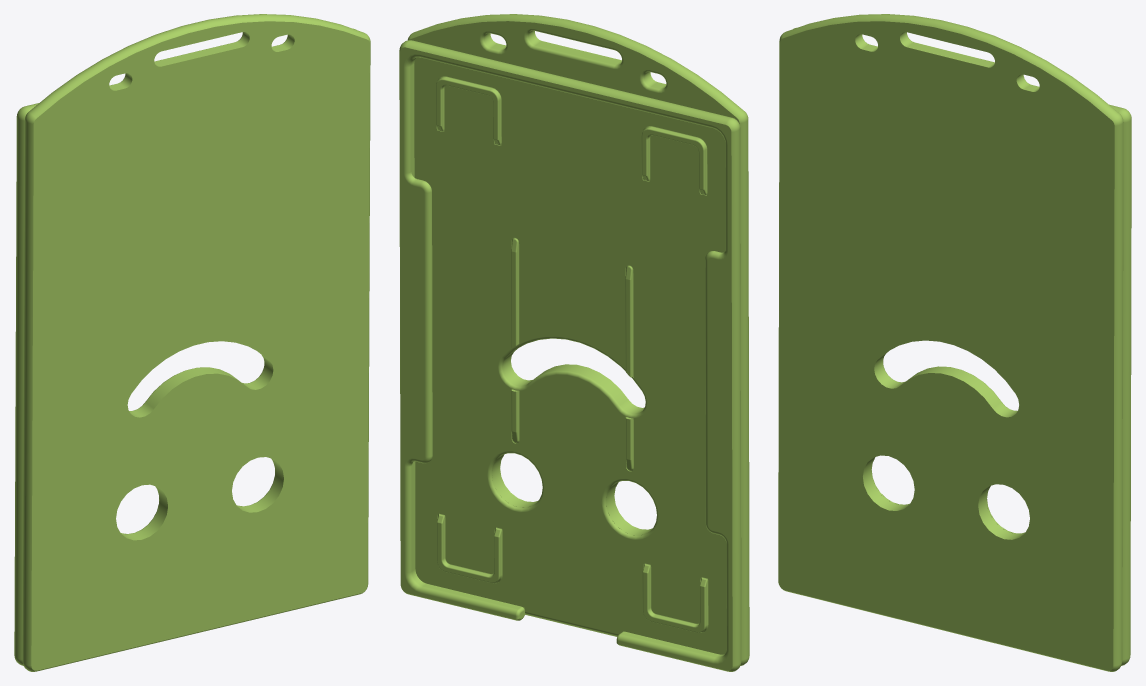
Rendered from mesnap_matcha_green.glb.
The picture shows the model from 3 angles, left to right: view 1: azimuth 30°, elevation 25°; view 2: azimuth 150°, elevation 25°; view 3: azimuth 330°, elevation 25°; orthographic projection.
Parts seen in each view (by area): view 1: Body1, Body2; view 2: Body2, Body1; view 3: Body1, Body2.
Part boxes in pixels (x1,y1,x2,y2): Body1: (22, 14, 370, 671); Body2: (14, 28, 356, 665); Body2: (399, 40, 741, 671); Body1: (407, 14, 749, 665); Body1: (778, 14, 1123, 671); Body2: (793, 27, 1131, 665).
Bounding box in the file's own units: 0.0595 × 0.1006 × 0.00525.
